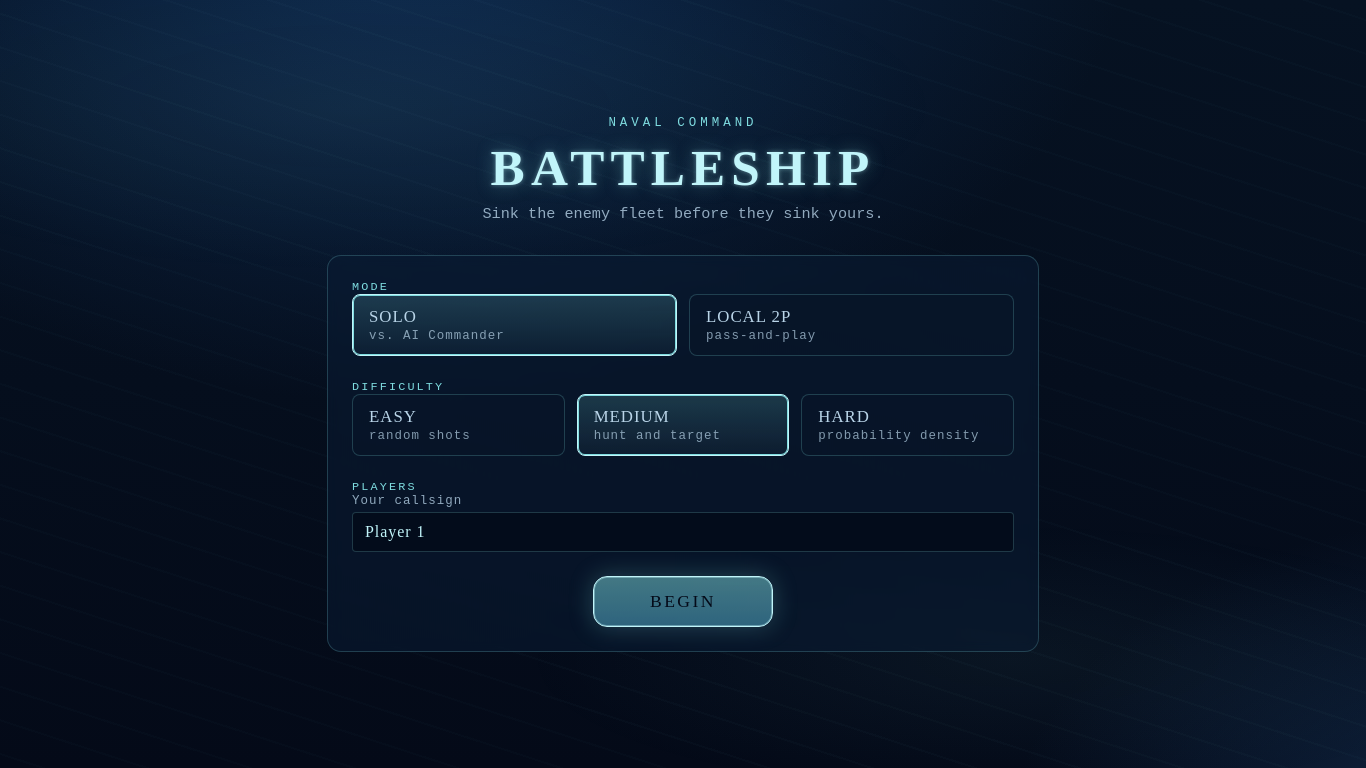
PlacementScreen integration (CP2) › Clicking on an invalid placement surfaces an error message and does not place
Click the button with aria-label "begin placement".
click(683, 602)  # box [593, 576, 773, 627]
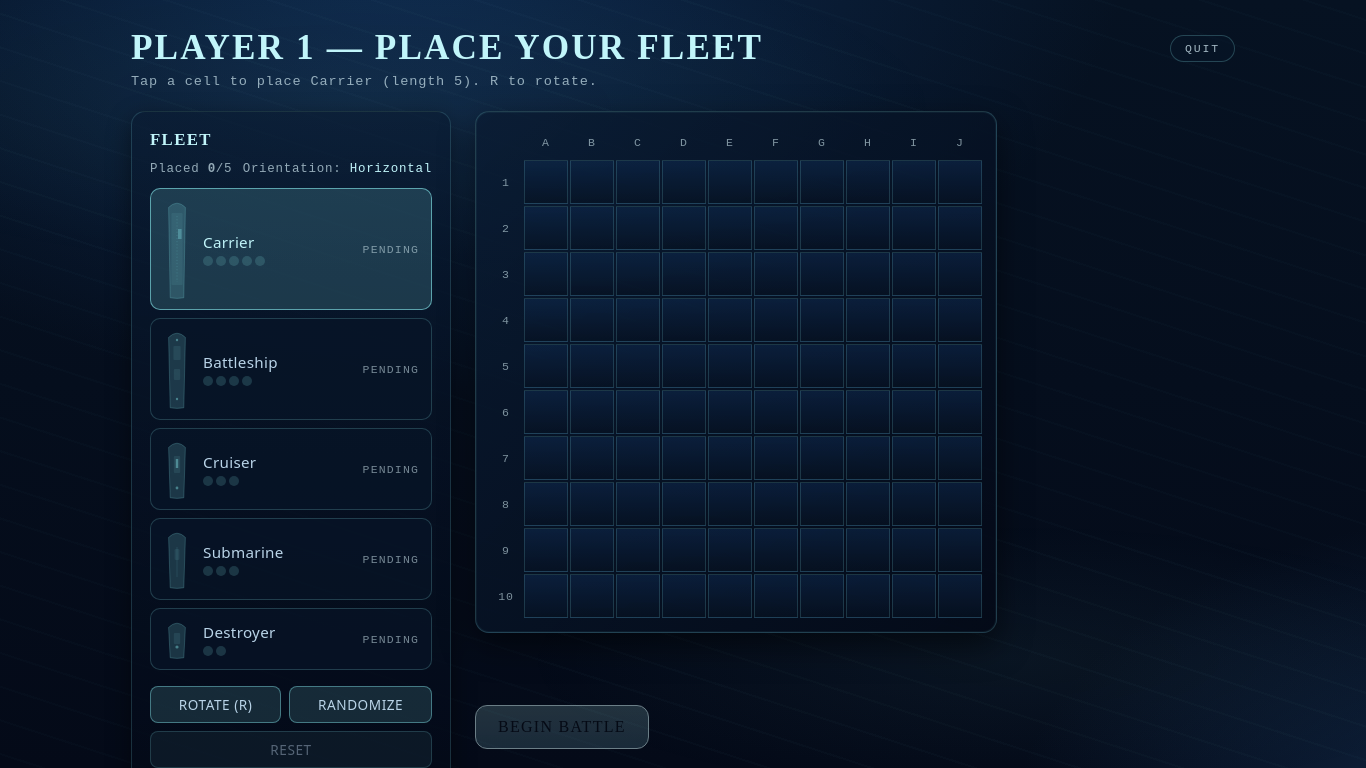
Click the button named "H1".
click(868, 182)  # box [846, 160, 890, 204]
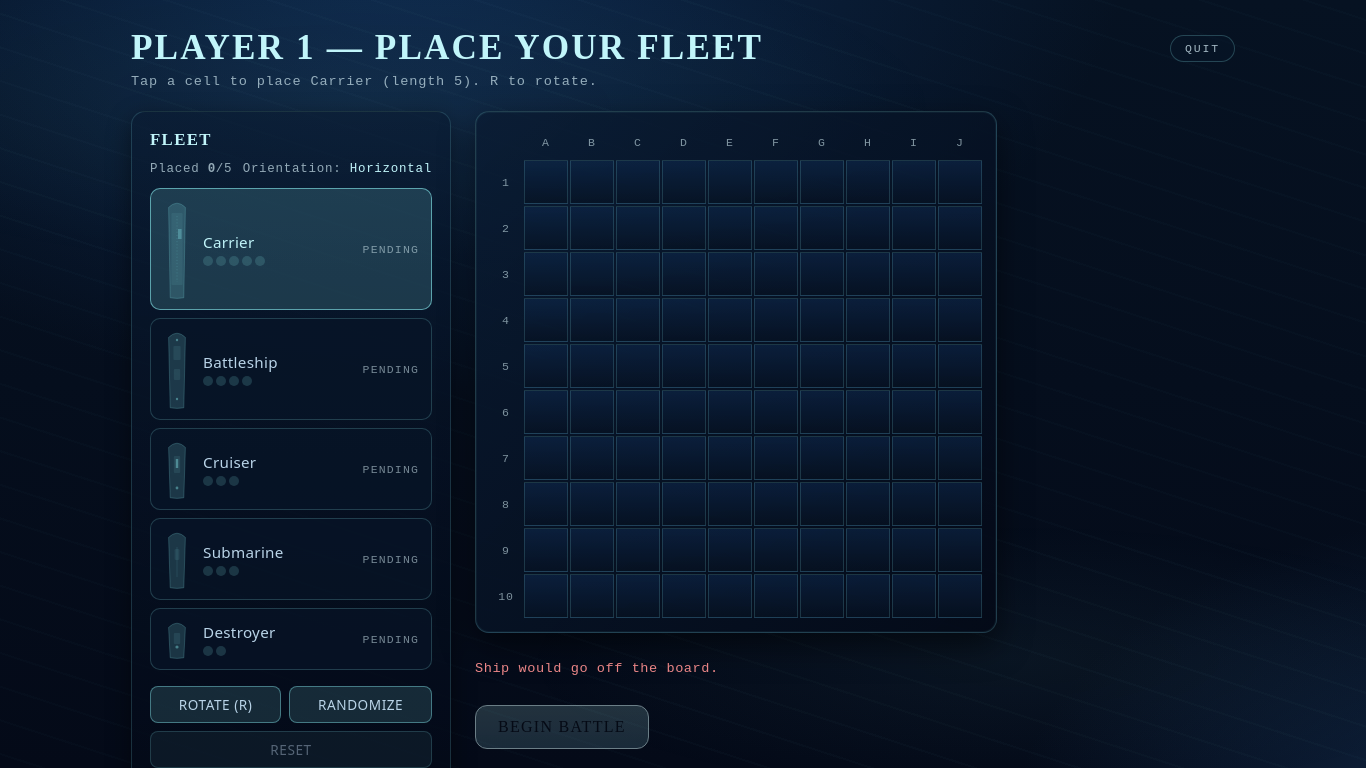
Result: the message shows "off the board" at [475, 661, 719, 676]
